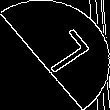L_SW: (22, 28, 88, 82)
